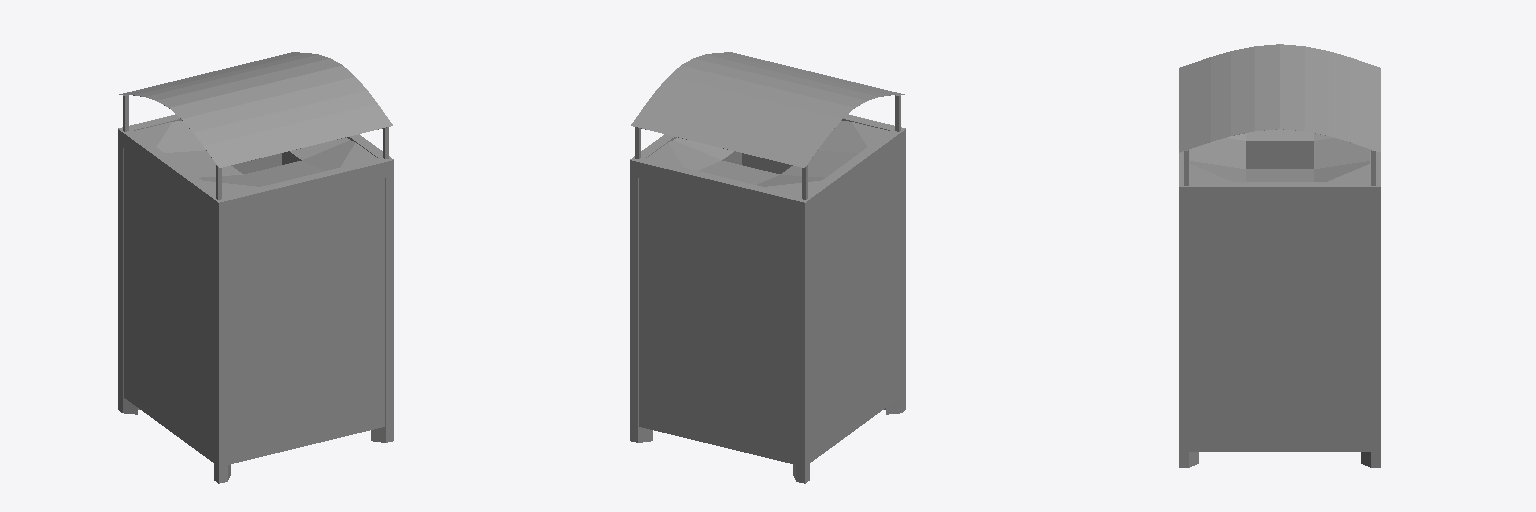
Rendered from recyclebin.obj.
3 renders of one model, left to right at view 1: azimuth 30°, elevation 25°; view 2: azimuth 150°, elevation 25°; view 3: azimuth 270°, elevation 25°, orthographic.
Visible parts, largest first — view 1: Body_Cube.000, Frame_Cube.000; view 2: Body_Cube.000, Frame_Cube.000; view 3: Body_Cube.000, Frame_Cube.000.
Boxes of the visible parts, <box> form: Body_Cube.000: <box>124,149,384,464</box>; Frame_Cube.000: <box>118,52,393,483</box>; Body_Cube.000: <box>639,149,899,464</box>; Frame_Cube.000: <box>630,52,905,483</box>; Body_Cube.000: <box>1189,203,1370,451</box>; Frame_Cube.000: <box>1179,44,1380,467</box>.
Size of the model in its own units: 2.01 by 3.71 by 2.01.